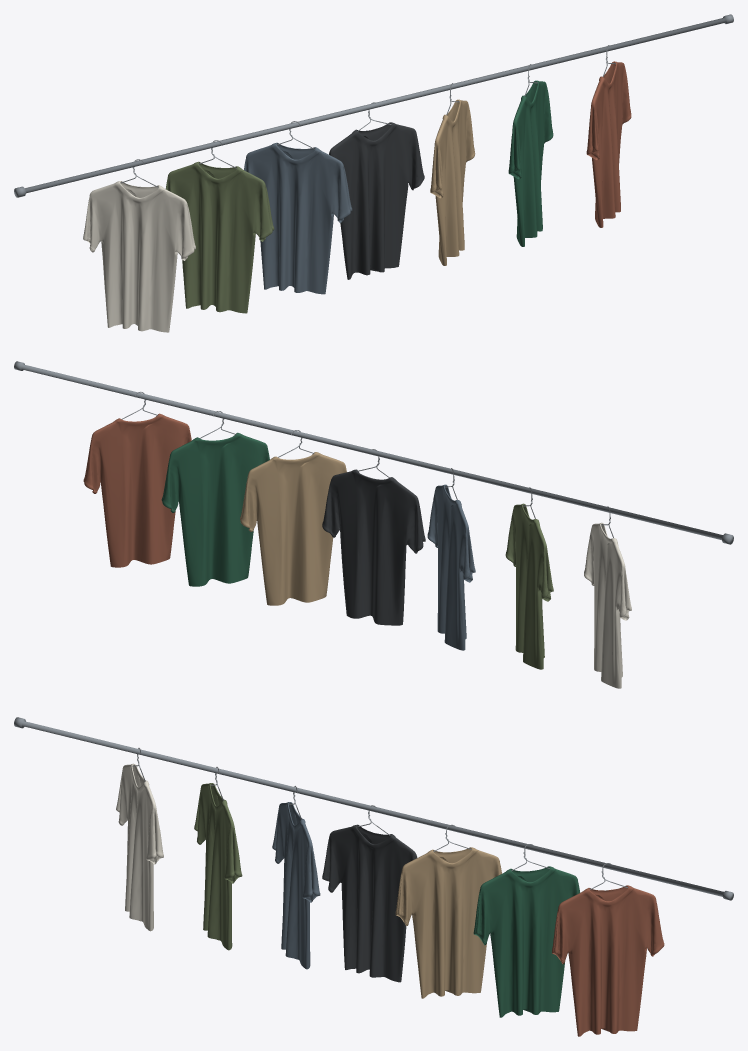
File: hero-rack.glb
The picture shows the model from 3 angles, top to bottom: view 1: azimuth 30°, elevation 25°; view 2: azimuth 150°, elevation 25°; view 3: azimuth 330°, elevation 25°; orthographic projection.
Visible parts, largest first — view 1: Shirt_01, Shirt_02, Shirt_03, Shirt_04, Shirt_05, Shirt_06, Shirt_07, Rail_Top; view 2: Shirt_05, Shirt_04, Shirt_06, Shirt_07, Shirt_03, Shirt_01, Shirt_02, Rail_Top; view 3: Shirt_07, Shirt_06, Shirt_05, Shirt_04, Shirt_01, Shirt_02, Shirt_03, Rail_Top.
Part boxes in pixels (x1,y1,x2,y2): Shirt_01: [83, 181, 195, 332]; Shirt_02: [165, 161, 274, 313]; Shirt_03: [244, 142, 352, 294]; Shirt_04: [329, 122, 424, 279]; Shirt_05: [430, 99, 475, 265]; Shirt_06: [508, 80, 553, 246]; Shirt_07: [586, 61, 631, 227]; Rail_Top: [14, 14, 733, 197]; Shirt_05: [240, 452, 346, 605]; Shirt_04: [322, 469, 425, 625]; Shirt_06: [161, 432, 269, 586]; Shirt_07: [83, 413, 191, 567]; Shirt_03: [427, 484, 475, 650]; Shirt_01: [584, 522, 631, 688]; Shirt_02: [505, 503, 553, 669]; Rail_Top: [14, 361, 733, 544]; Shirt_07: [552, 885, 664, 1036]; Shirt_06: [473, 866, 580, 1017]; Shirt_05: [395, 847, 501, 998]; Shirt_04: [322, 824, 417, 982]; Shirt_01: [116, 763, 163, 931]; Shirt_02: [194, 783, 242, 950]; Shirt_03: [272, 802, 320, 969]; Rail_Top: [14, 717, 733, 900].
Size of the model in its own units: 5.31 by 1.22 by 0.5435.
